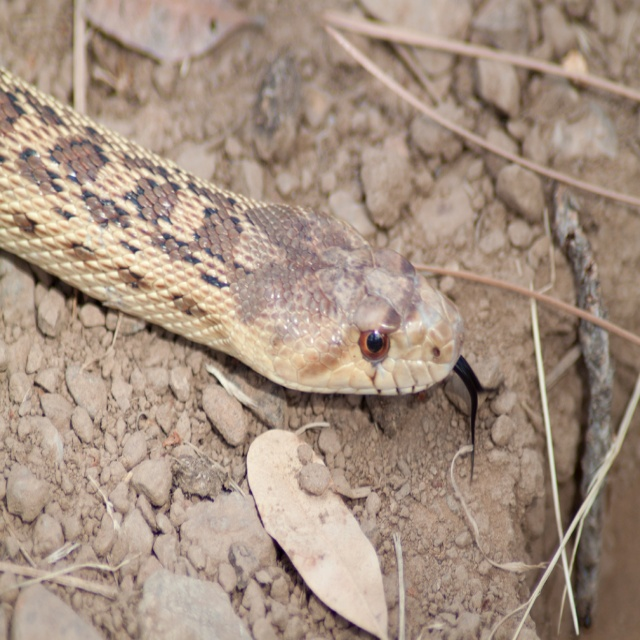Snake: (0, 67, 498, 483)
